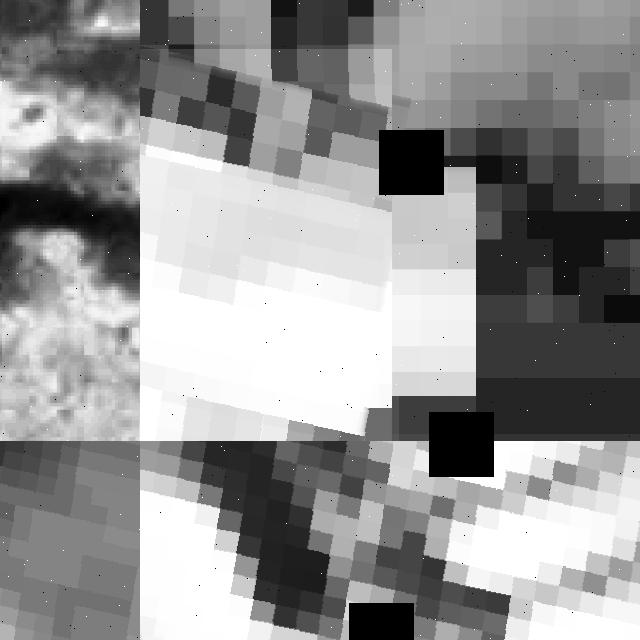arms: (140, 441, 640, 640), (140, 49, 392, 441), (0, 441, 140, 640)
